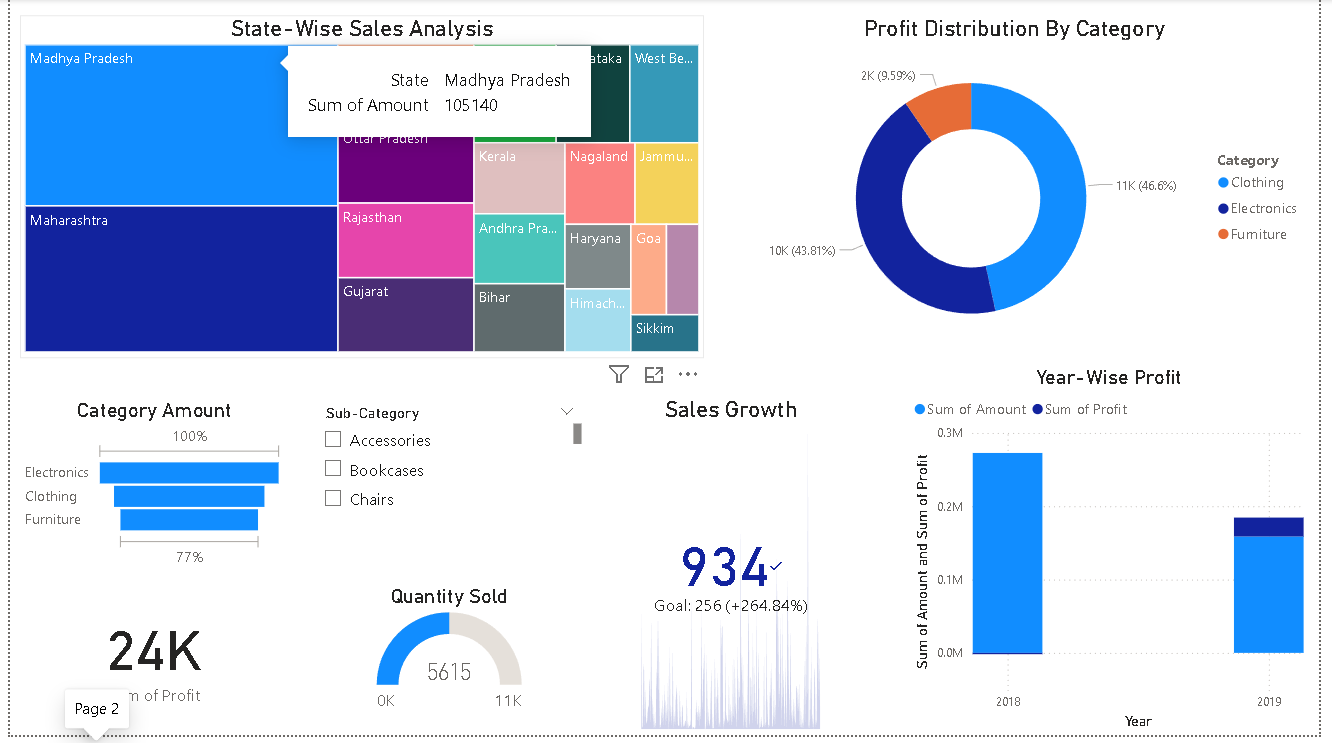

This screenshot's page, from the dashboard's own definition file:
{"tool":"powerbi","page":{"name":"Page 2","canvas":[1280,720],"ordinal":1},"visuals":[{"type":"donutChart","title":"Profit Distribution By Category","fields":{"Category":["final_sales_data (2).Category"],"Y":["Sum(final_sales_data (2).Profit)"]},"box":[694.4,15.9,576.6,334.6],"z":0},{"type":"treemap","title":"State-Wise Sales Analysis","fields":{"Group":["final_sales_data (2).State"],"Values":["Sum(final_sales_data (2).Amount)"]},"box":[9.3,15.9,669.2,334.6],"z":1000},{"type":"funnel","title":"Category Amount","fields":{"Category":["final_sales_data (2).Category"],"Y":["Sum(final_sales_data (2).Amount)"]},"box":[9.3,391.5,263.2,169.3],"z":2000},{"type":"lineStackedColumnComboChart","title":"Year-Wise Profit","fields":{"Category":["final_sales_data (2).Order Date.Variation.Date Hierarchy.Year","final_sales_data (2).Order Date.Variation.Date Hierarchy.Quarter","final_sales_data (2).Order Date.Variation.Date Hierarchy.Month","final_sales_data (2).Order Date.Variation.Date Hierarchy.Day"],"Y":["Sum(final_sales_data (2).Amount)","Sum(final_sales_data (2).Profit)"]},"box":[879.5,359.7,391.5,359.7],"z":3000},{"type":"card","fields":{"Values":["Sum(final_sales_data (2).Profit)"]},"box":[50.3,575.3,182.5,133.6],"z":4000},{"type":"slicer","fields":{"Values":["final_sales_data (2).Sub-Category"]},"box":[296.3,391.5,268.5,109.8],"z":5000},{"type":"gauge","title":"Quantity Sold","fields":{"Y":["Sum(final_sales_data (2).Quantity)"]},"box":[324,574,211.6,134.9],"z":6000},{"type":"kpi","title":"Sales Growth","fields":{"Indicator":["Sum(final_sales_data (2).Amount)"],"TrendLine":["final_sales_data (2).Order Date"],"Goal":["Sum(final_sales_data (2).Profit)"]},"box":[612.4,388.8,185.2,330.6],"z":7000}]}

Visuals, with their boxes in screenshot pixels (x1, y1, x2, y2), scaled from the page's 1280x720 canvas onto the 1332x743 screenshot:
"Profit Distribution By Category" donutChart: box=[723, 16, 1323, 362]
"State-Wise Sales Analysis" treemap: box=[10, 16, 706, 362]
"Category Amount" funnel: box=[10, 404, 284, 579]
"Year-Wise Profit" lineStackedColumnComboChart: box=[915, 371, 1323, 742]
card - Sum(final_sales_data (2).Profit): box=[52, 594, 242, 732]
slicer - final_sales_data (2).Sub-Category: box=[308, 404, 588, 517]
"Quantity Sold" gauge: box=[337, 592, 557, 732]
"Sales Growth" kpi: box=[637, 401, 830, 742]
